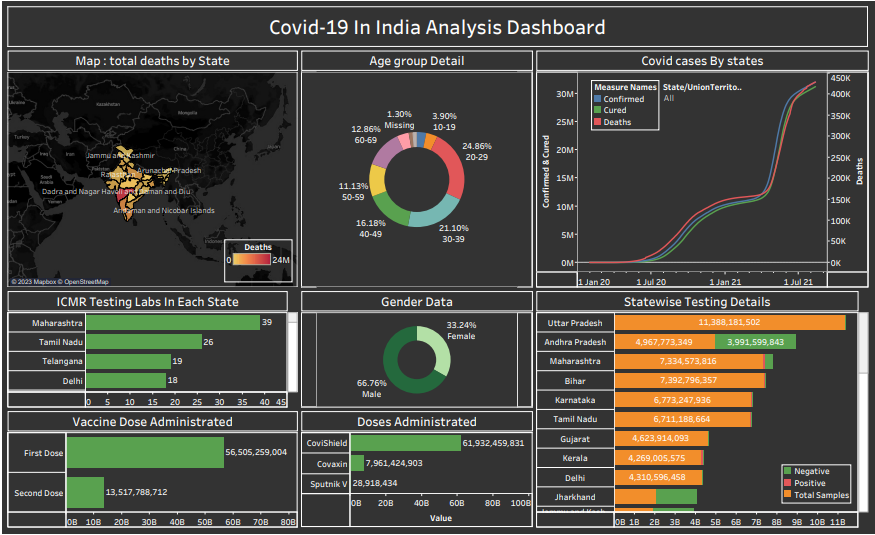

The dashboard page shown, as its layout file describes it:
{"tool":"tableau","page":{"name":"Dashboard 1","canvas":[1800,1100],"ordinal":0},"visuals":[{"type":"worksheet","title":"Title","mark":"Automatic","box":[8,8,1784,91]},{"type":"worksheet","title":"Map : total deaths by State","mark":"Automatic","box":[8,99,606,497]},{"type":"worksheet","title":"Age group Detail","mark":"Pie","rows":["Calculation_105271675898236930","Calculation_105271675898236930"],"box":[614,99,485,497]},{"type":"worksheet","title":"Covid cases By states","mark":"Automatic","rows":["Deaths"],"cols":["Date"],"box":[1099,99,693,497]},{"type":"legend","title":"Covid cases By states","param":"[federated.0yo026l1hd8mwt1crh2070lnsu35].[:Measure Names]","box":[1216,164,140,103]},{"type":"filter","title":"Covid cases By states","param":"[federated.0yo026l1hd8mwt1crh2070lnsu35].[none:State/UnionTerritory:nk]","box":[1364,164,168,63]},{"type":"legend","title":"Map : total deaths by State","param":"[federated.0yo026l1hd8mwt1crh2070lnsu35].[sum:Deaths:qk]","box":[459,493,140,88]},{"type":"worksheet","title":"ICMR Testing Labs In Each State","mark":"Automatic","rows":["state"],"cols":["lab"],"box":[8,596,606,248]},{"type":"worksheet","title":"Gender Data","mark":"Pie","rows":["Calculation_1516868684406448130","Calculation_1516868684406448130"],"box":[614,596,485,248]},{"type":"worksheet","title":"Statewise Testing Details","mark":"Automatic","rows":["State"],"box":[1099,596,693,496]},{"type":"worksheet","title":"Vaccine Dose Administrated","mark":"Automatic","box":[8,844,606,248]},{"type":"worksheet","title":"Doses Administrated","mark":"Automatic","box":[614,844,485,248]},{"type":"legend","title":"Statewise Testing Details","param":"[federated.1mbr1s80mr7ass18kzemr1jdt5fq].[:Measure Names]","box":[1609,958,143,80]}]}

Visuals, with their boxes in screenshot pixels (x1, y1, x2, y2), scaled from the page's 1800x1100 canvas onto the 875x535 screenshot:
"Title" worksheet: [4,4,871,48]
"Map : total deaths by State" worksheet: [4,48,298,290]
"Age group Detail" worksheet (Pie marks): [298,48,534,290]
"Covid cases By states" worksheet: [534,48,871,290]
"Covid cases By states" legend: [591,80,659,130]
"Covid cases By states" filter: [663,80,745,110]
"Map : total deaths by State" legend: [223,240,291,283]
"ICMR Testing Labs In Each State" worksheet: [4,290,298,410]
"Gender Data" worksheet (Pie marks): [298,290,534,410]
"Statewise Testing Details" worksheet: [534,290,871,531]
"Vaccine Dose Administrated" worksheet: [4,410,298,531]
"Doses Administrated" worksheet: [298,410,534,531]
"Statewise Testing Details" legend: [782,466,852,505]
